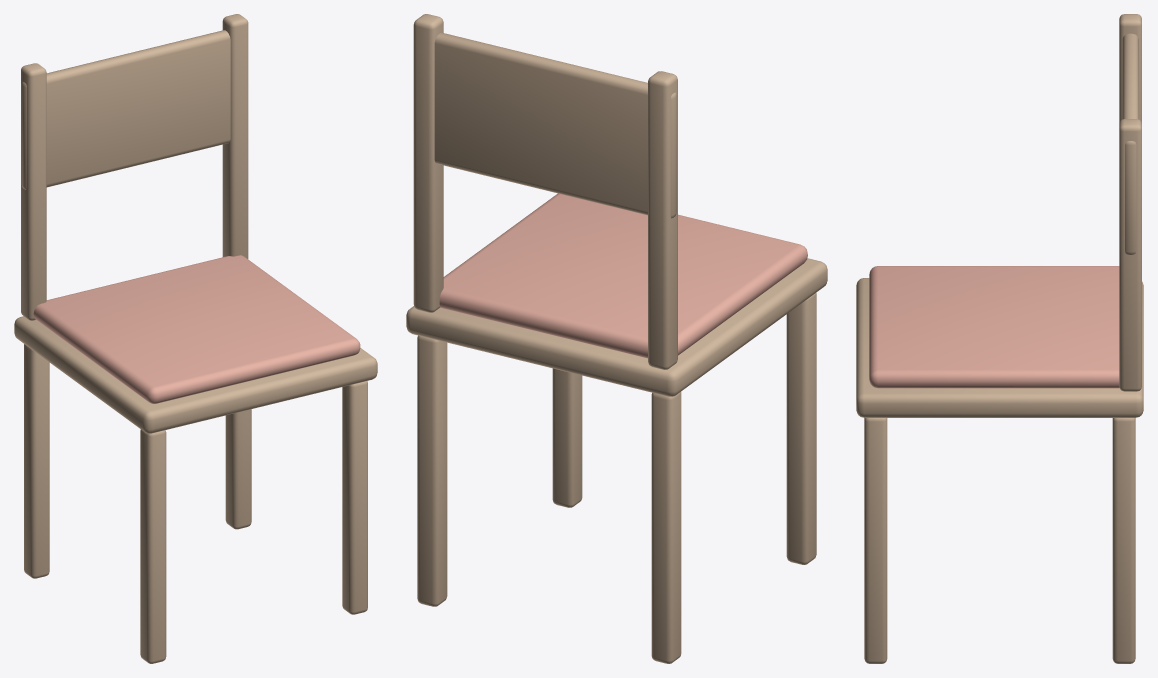
File: Chair.glb
The picture shows the model from 3 angles, left to right: view 1: azimuth 30°, elevation 25°; view 2: azimuth 150°, elevation 25°; view 3: azimuth 270°, elevation 25°; orthographic projection. The views are drawn at different scales.
Visible parts, largest first — view 1: Chair.Cushion, Chair.Back, Chair.Seat, Chair.Leg-1-1, Chair.Leg1-1, Chair.Post-1, Chair.Leg-11, Chair.Post1, Chair.Leg11; view 2: Chair.Cushion, Chair.Back, Chair.Seat, Chair.Leg-11, Chair.Leg11, Chair.Post-1, Chair.Leg-1-1, Chair.Post1, Chair.Leg1-1; view 3: Chair.Cushion, Chair.Seat, Chair.Leg1-1, Chair.Leg11, Chair.Post1, Chair.Back, Chair.Post-1.
Boxes of the visible parts, left/top/right/bottom form: Chair.Cushion: left=33, top=255, right=360, bottom=403; Chair.Back: left=21, top=30, right=230, bottom=189; Chair.Seat: left=14, top=316, right=377, bottom=433; Chair.Leg-1-1: left=140, top=429, right=166, bottom=663; Chair.Leg1-1: left=342, top=381, right=367, bottom=614; Chair.Post-1: left=21, top=63, right=46, bottom=320; Chair.Leg-11: left=24, top=344, right=49, bottom=578; Chair.Post1: left=222, top=14, right=248, bottom=258; Chair.Leg11: left=225, top=409, right=251, bottom=529; Chair.Cushion: left=439, top=193, right=807, bottom=358; Chair.Back: left=434, top=32, right=676, bottom=218; Chair.Seat: left=406, top=258, right=827, bottom=396; Chair.Leg-11: left=651, top=392, right=681, bottom=663; Chair.Leg11: left=417, top=335, right=447, bottom=606; Chair.Post-1: left=648, top=71, right=677, bottom=369; Chair.Leg-1-1: left=786, top=293, right=816, bottom=564; Chair.Post1: left=413, top=14, right=443, bottom=312; Chair.Leg1-1: left=552, top=368, right=582, bottom=507; Chair.Cushion: left=869, top=266, right=1119, bottom=388; Chair.Seat: left=856, top=278, right=1143, bottom=417; Chair.Leg1-1: left=864, top=418, right=887, bottom=663; Chair.Leg11: left=1112, top=418, right=1135, bottom=663; Chair.Post1: left=1119, top=119, right=1141, bottom=391; Chair.Back: left=1122, top=33, right=1138, bottom=254; Chair.Post-1: left=1119, top=14, right=1141, bottom=122.
Bounding box in the file's own units: 0.44 × 0.91 × 0.44.
